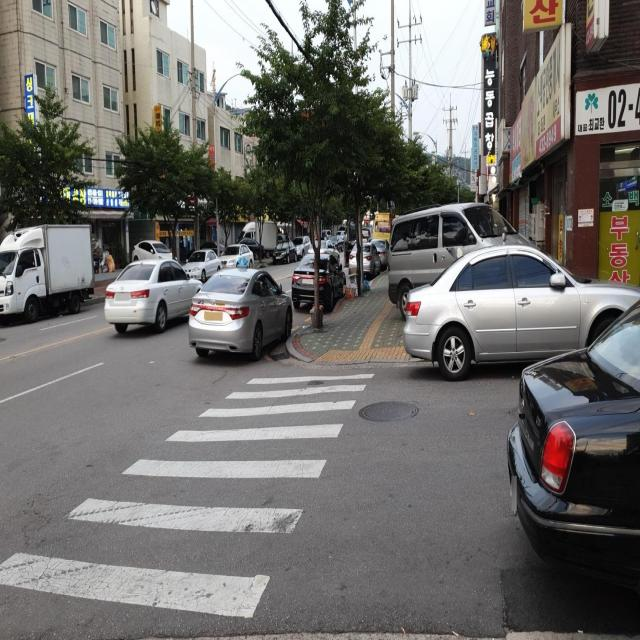횡단보도: (0, 371, 376, 621)
